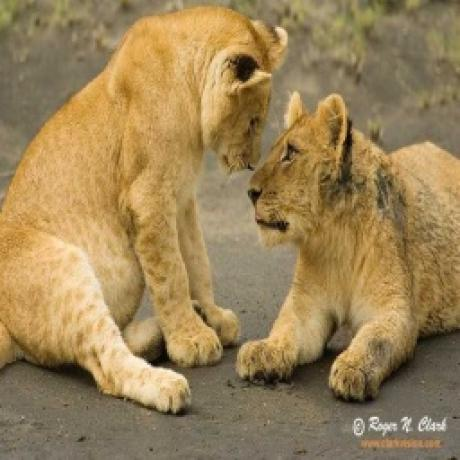Lion: (0, 6, 290, 418), (231, 86, 460, 405)
